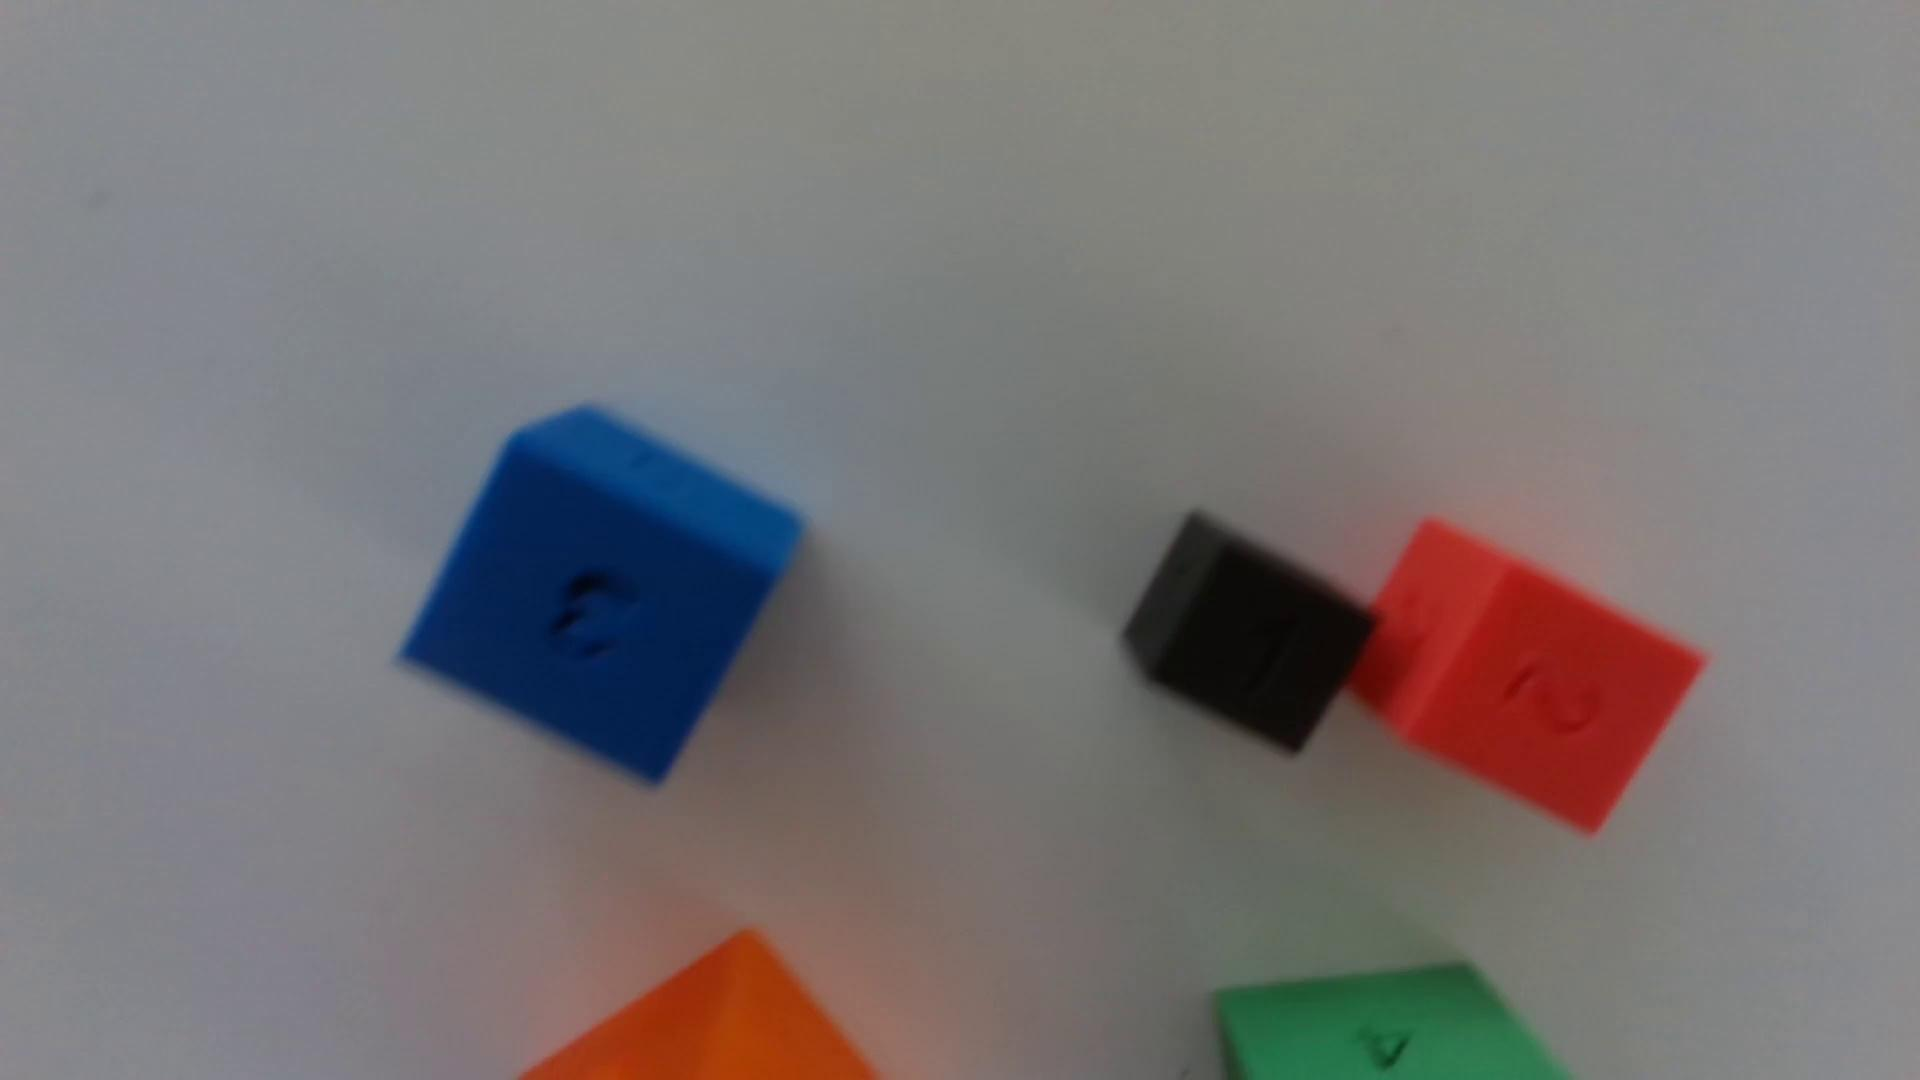black: (1122, 513, 1373, 754)
blue: (402, 407, 804, 785)
green: (1215, 965, 1564, 1080)
orange: (522, 931, 878, 1080)
red: (1350, 520, 1702, 833)
